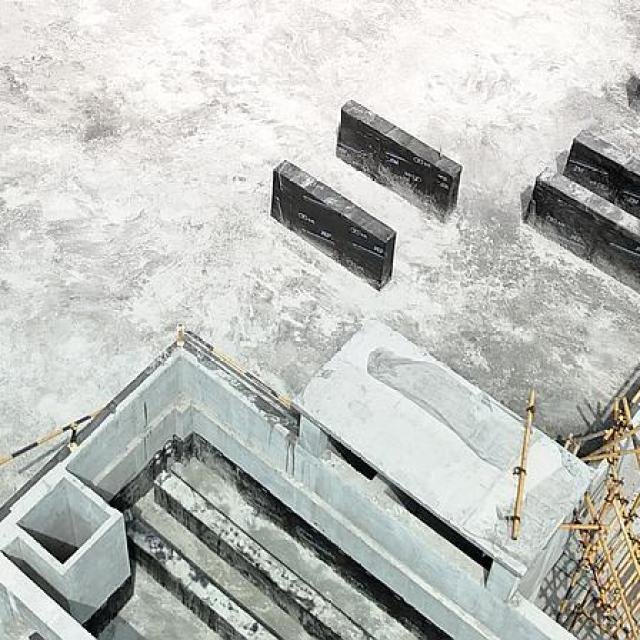edge_guardrail: (175, 323, 295, 411), (0, 409, 100, 467)
